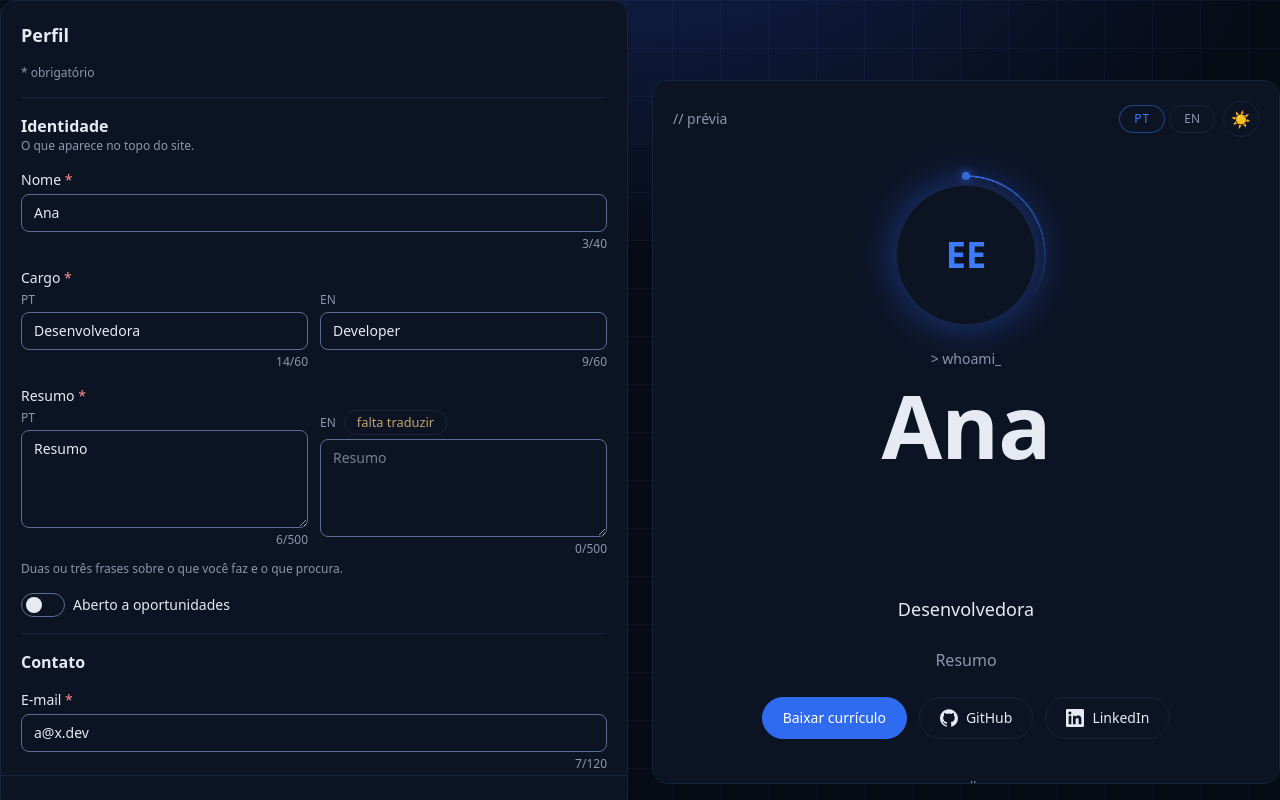
ProfileEditor › se a action lança, avisa sem conexão, mantém o texto e 'Tentar agora' grava de novo
Later steps or results of the test are not shown.
Replace the text in the field labelled "Nome" with "Beatriz Lima" at coordinates (314, 213), box [21,194,607,232]
Wait 800 ms
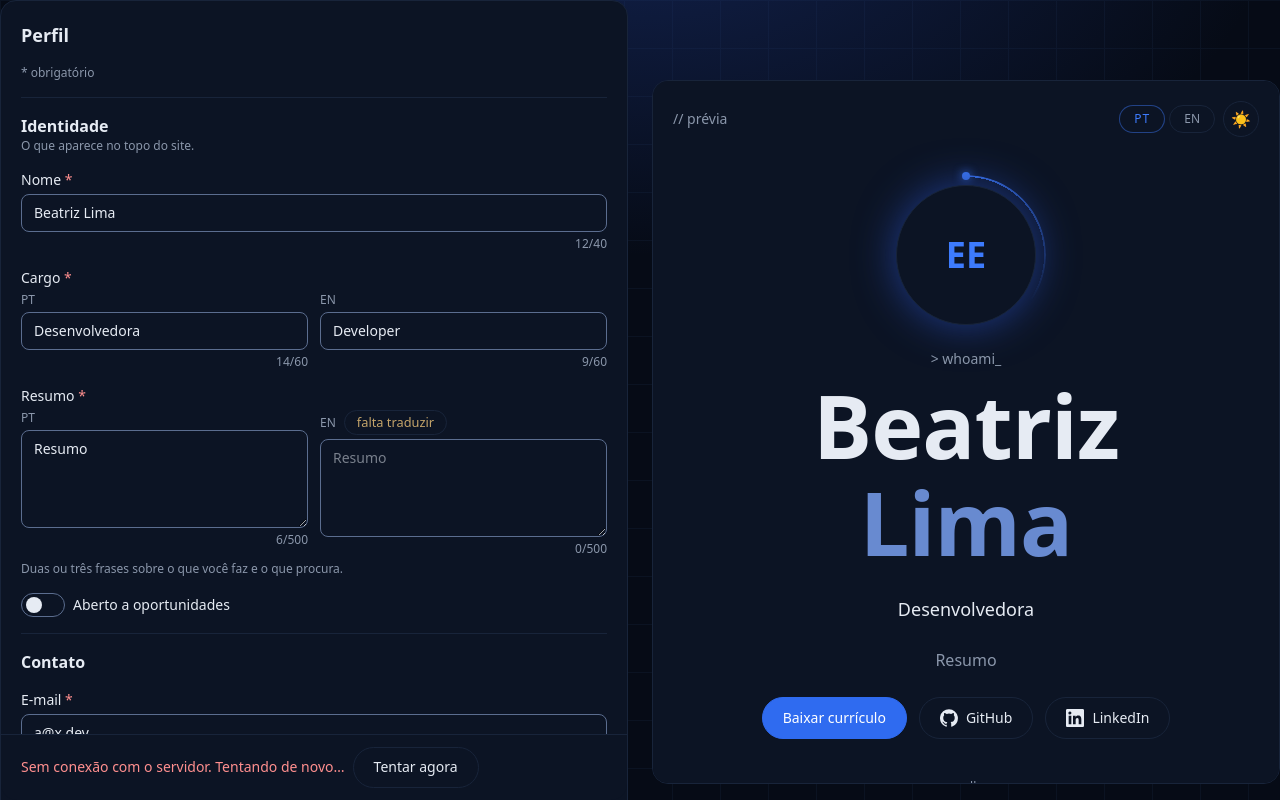
Now the text "Sem conexão com o servidor. Tentando de novo…" is shown, box [21,757,345,777]
